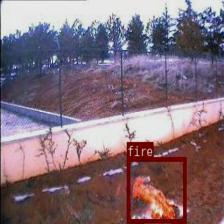fire: (126, 156, 186, 223)
